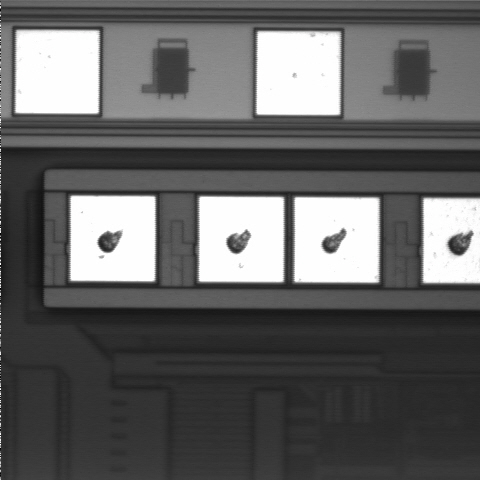pad: (70, 196, 156, 282), (199, 196, 284, 282), (294, 197, 379, 283), (256, 31, 341, 115), (15, 30, 99, 114)
